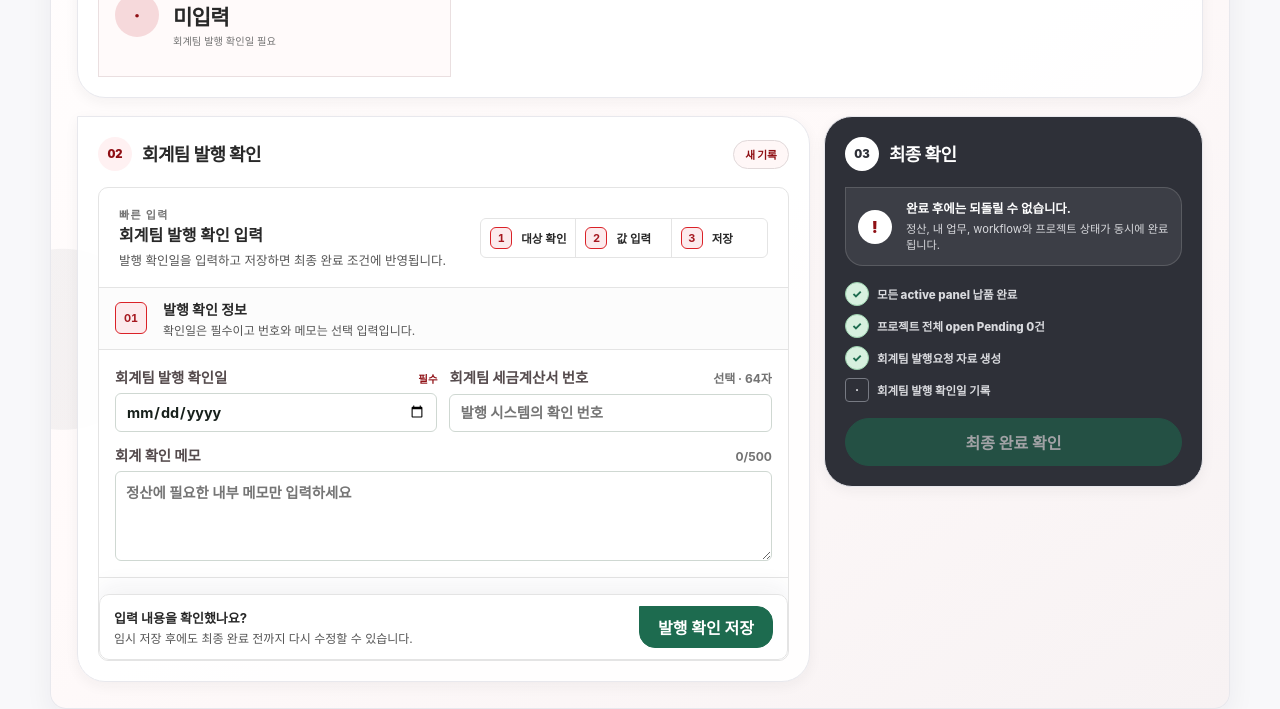
Test: SalesSettlementPage › shows the compact mobile gates and completes through the explicit final confirmation
The image size is (1280, 709).
(page scrolled)
Type "2026-07-18" into the date field labelled "회계팀 발행 확인일 필수".
click(276, 412); type("2026-07-18")  # box [115, 393, 438, 432]
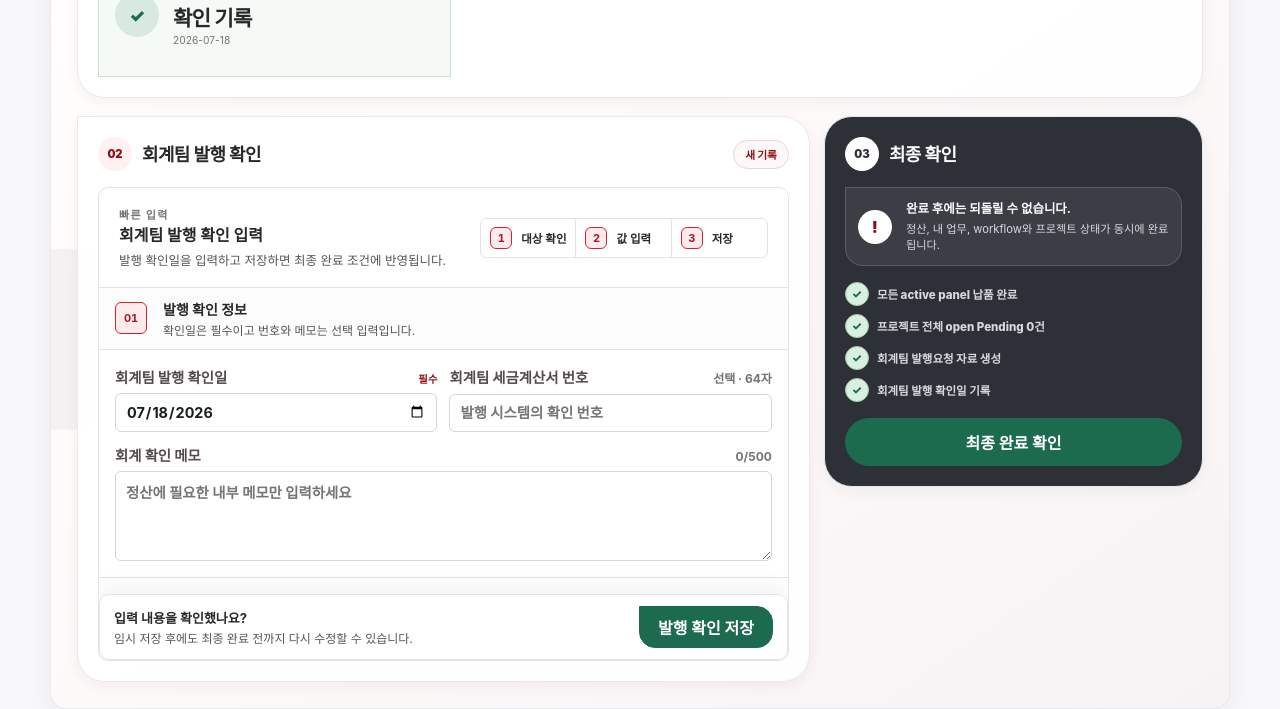
Click the button "최종 완료 확인".
click(1013, 442)  # box [845, 418, 1182, 466]
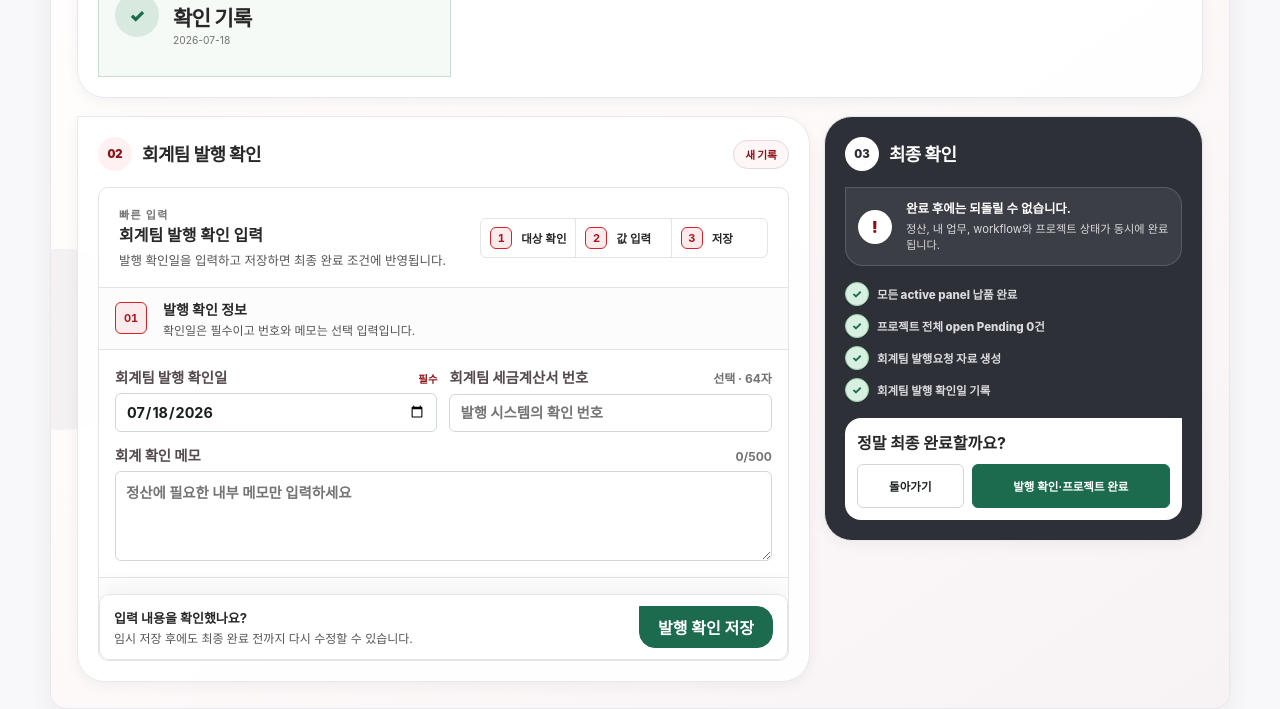
Expected: the text "정말 최종 완료할까요?" is shown, [857, 433, 1006, 453]
Click the button "발행 확인·프로젝트 완료".
click(1071, 486)  # box [972, 464, 1170, 508]
(page scrolled)
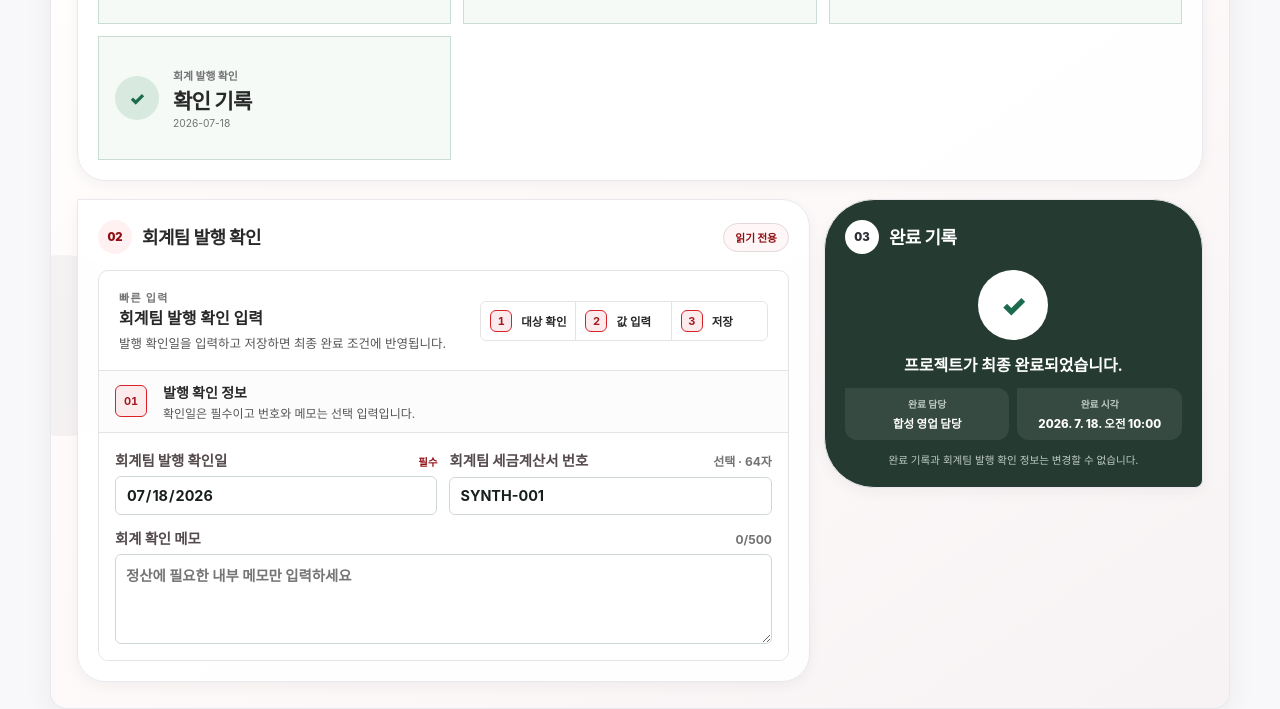
Expected: the text "프로젝트가 최종 완료되었습니다." is shown, [904, 352, 1123, 376]
